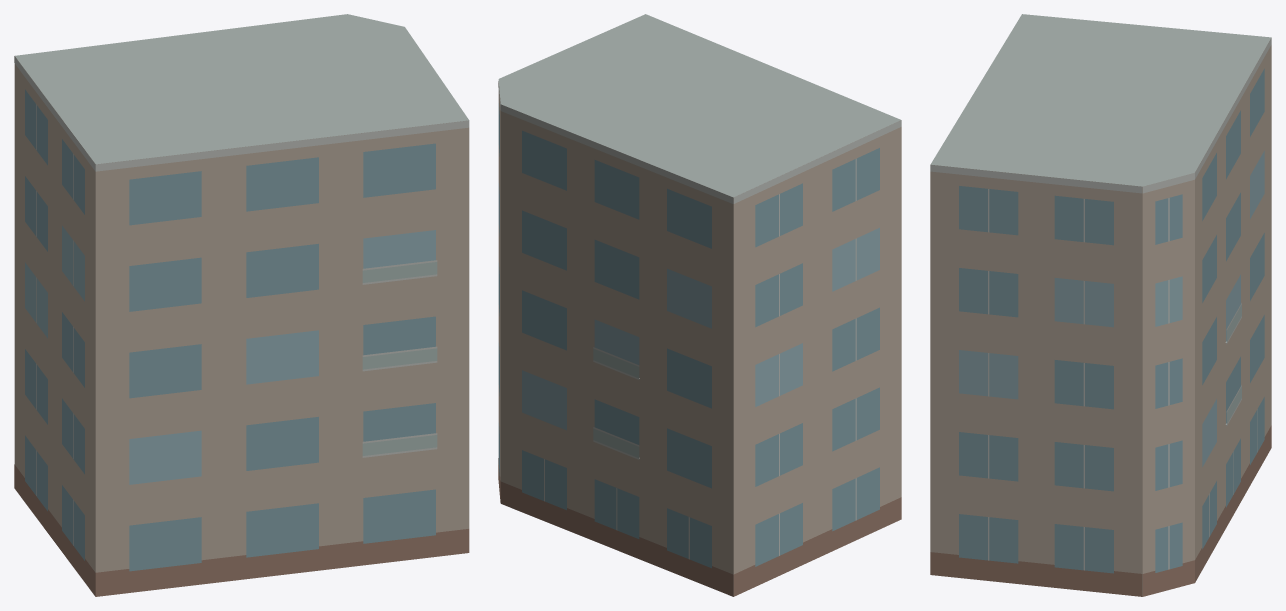
Rendered from survey-upis-32901921.glb.
The picture shows the model from 3 angles, left to right: view 1: azimuth 30°, elevation 25°; view 2: azimuth 150°, elevation 25°; view 3: azimuth 270°, elevation 25°; orthographic projection. The views are drawn at different scales.
Parts seen in each view (by area): view 1: survey-upis-32901921.tmp; view 2: survey-upis-32901921.tmp; view 3: survey-upis-32901921.tmp.
Part boxes in pixels (x1,y1,x2,y2): survey-upis-32901921.tmp: (14, 14, 469, 596); survey-upis-32901921.tmp: (498, 14, 901, 596); survey-upis-32901921.tmp: (930, 14, 1271, 596).
Size of the model in its own units: 13.09 by 14.5 by 10.94.
